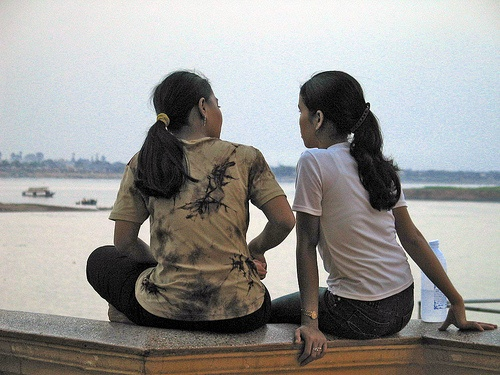head: (156, 70, 226, 147), (298, 70, 365, 149)
person: (277, 67, 500, 366), (84, 59, 296, 342)
